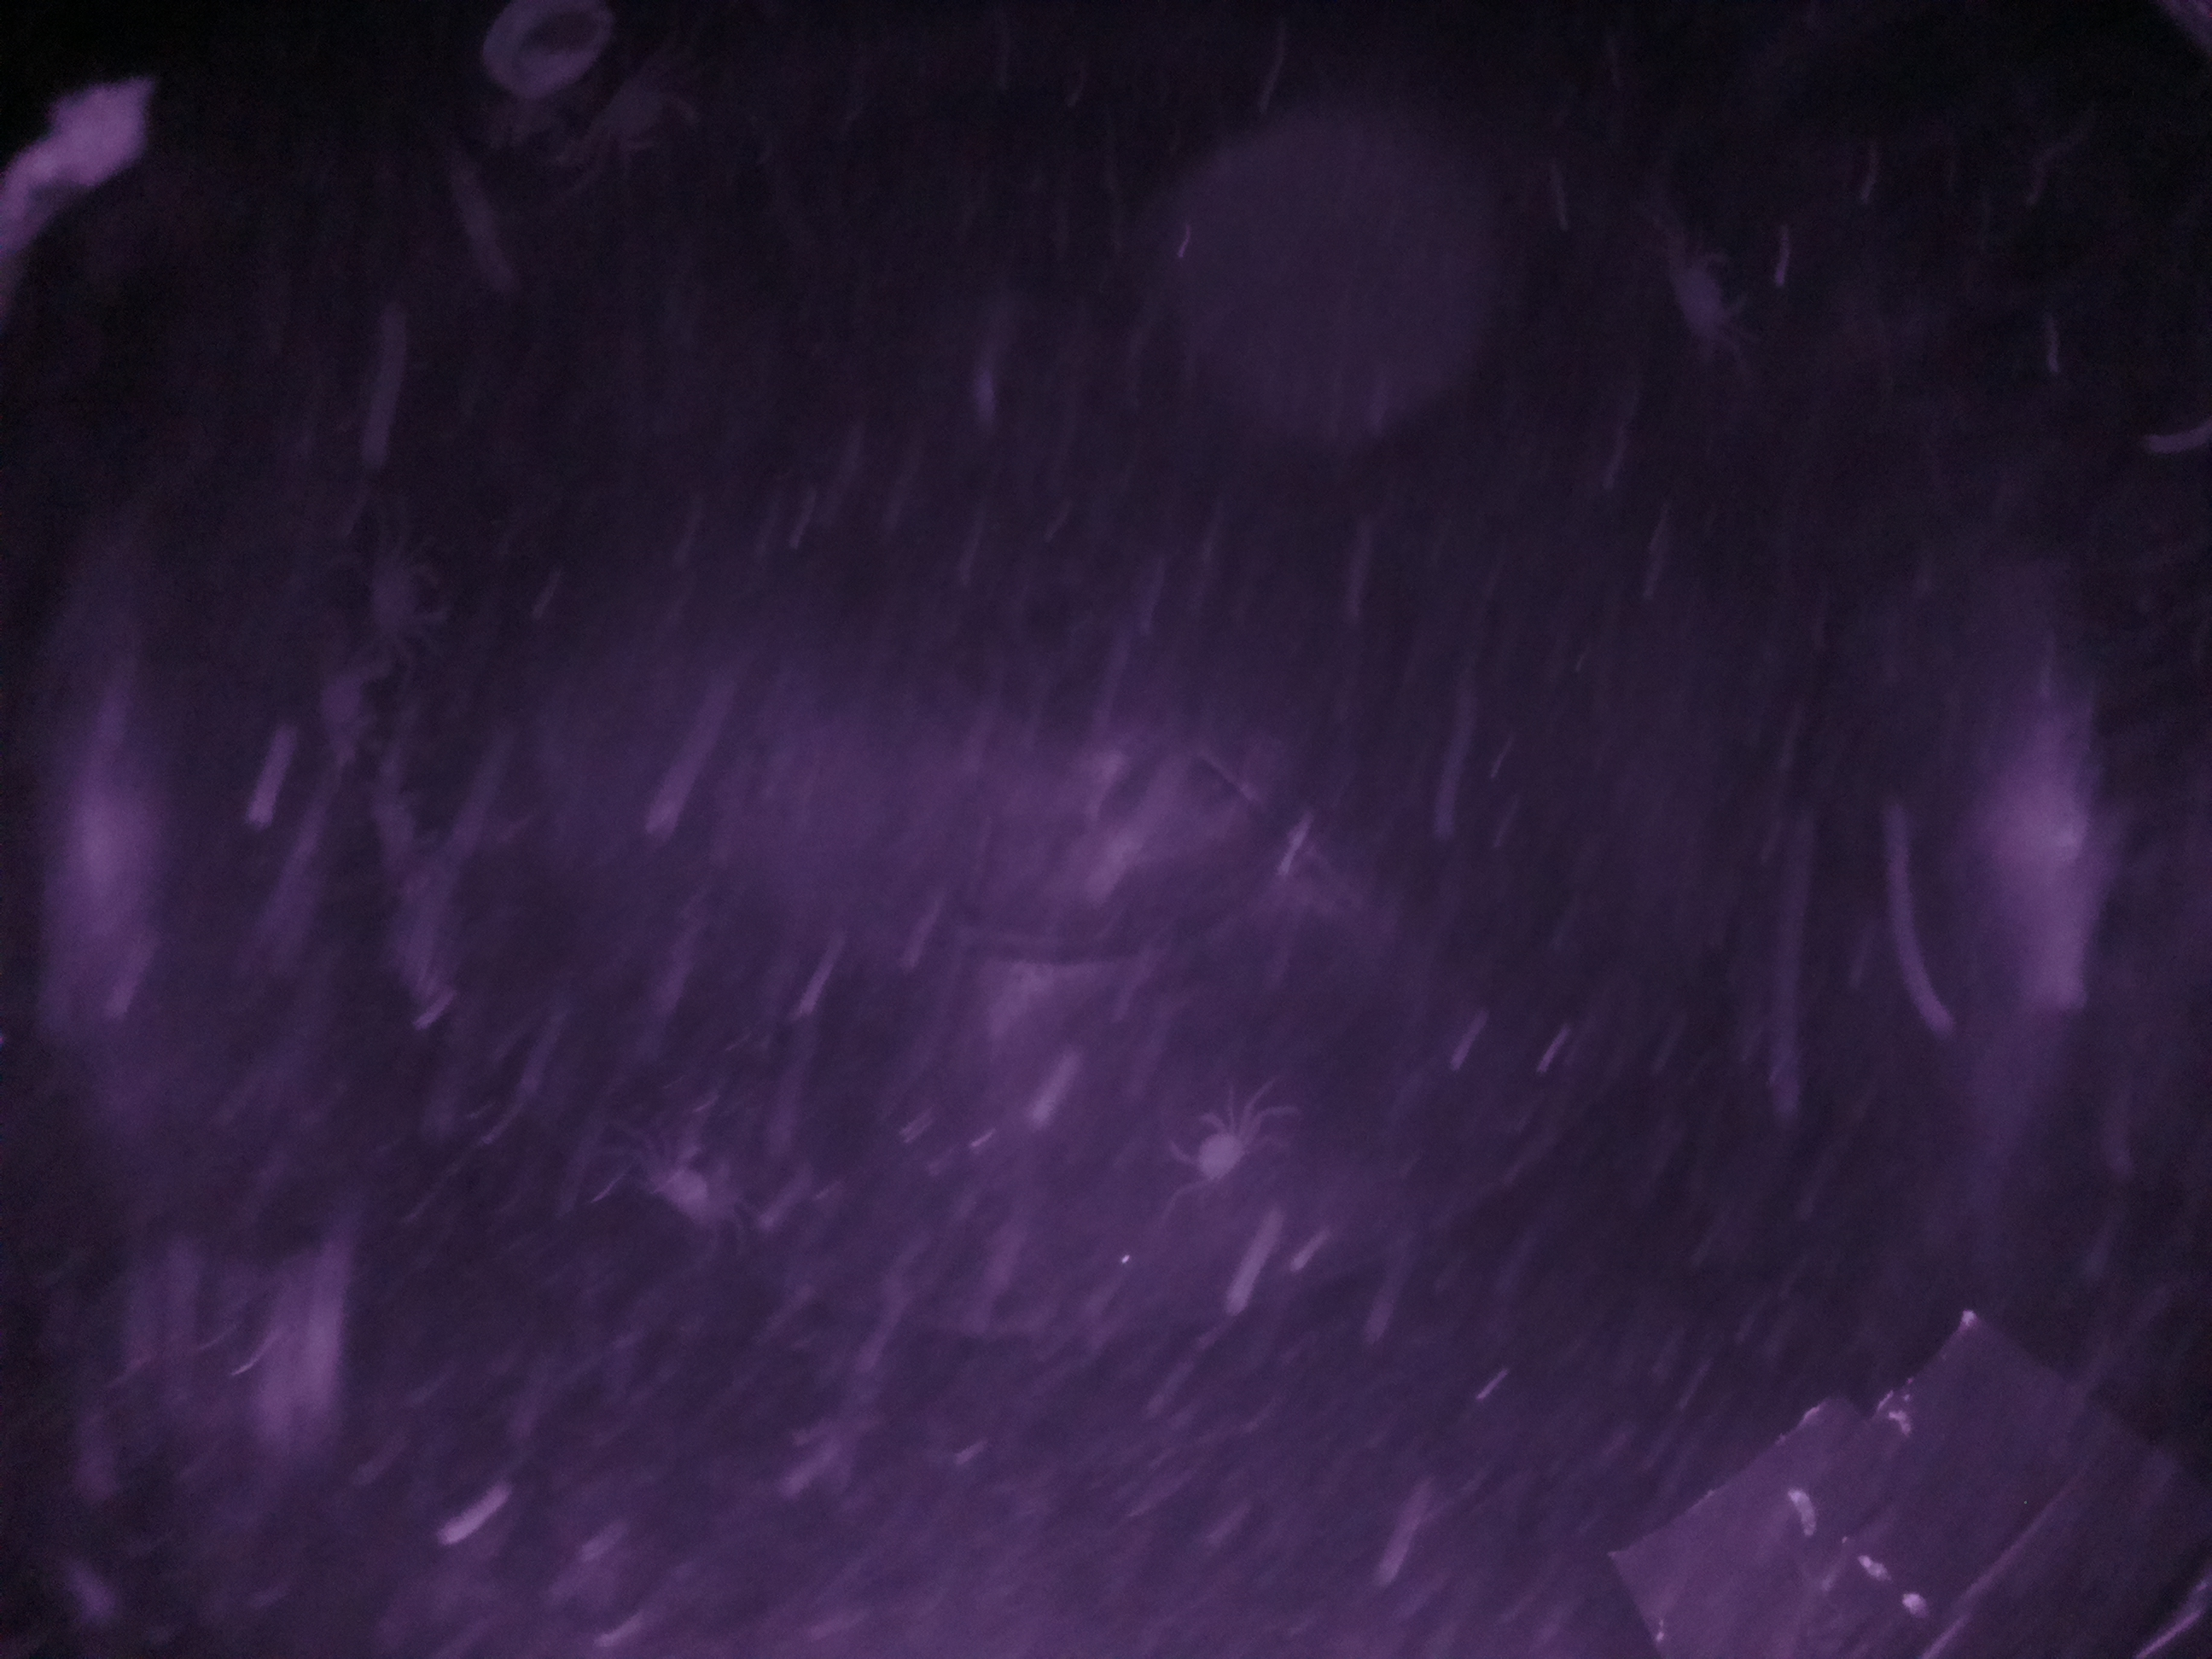Crab: (1146, 1093, 1282, 1211), (625, 1126, 758, 1237)
